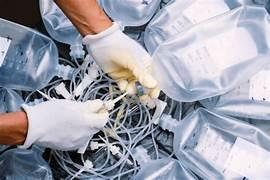Glove: (83, 23, 159, 97), (20, 99, 108, 149)
Iv_Bottle: (0, 19, 73, 90), (39, 0, 84, 58), (133, 146, 196, 179)
